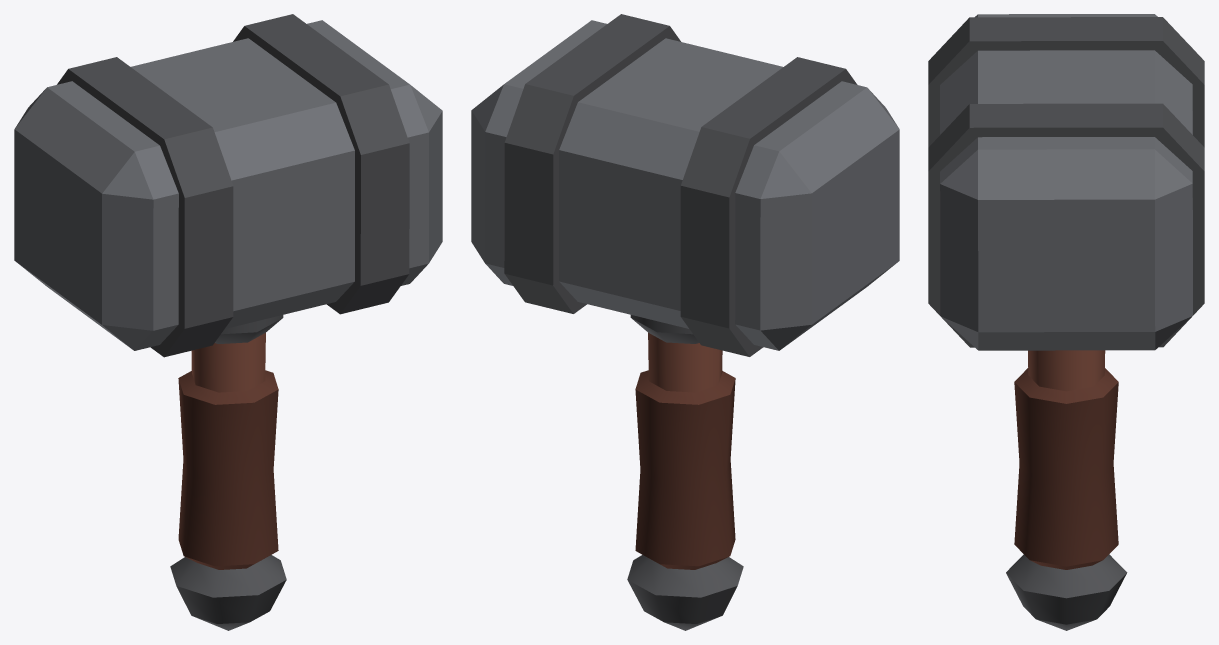
File: Hammer_RHand_9.fbx
3 views of the same model, side by side, from view 1: azimuth 30°, elevation 25°; view 2: azimuth 150°, elevation 25°; view 3: azimuth 270°, elevation 25° (orthographic).
Parts seen in each view (by area): view 1: Hammer_RHand_9; view 2: Hammer_RHand_9; view 3: Hammer_RHand_9.
Part boxes in pixels (bbox=[...]): Hammer_RHand_9: bbox=[14, 14, 442, 630]; Hammer_RHand_9: bbox=[471, 14, 899, 630]; Hammer_RHand_9: bbox=[928, 14, 1204, 630].
Size of the model in its own units: 33.69 by 52.39 by 23.51.
